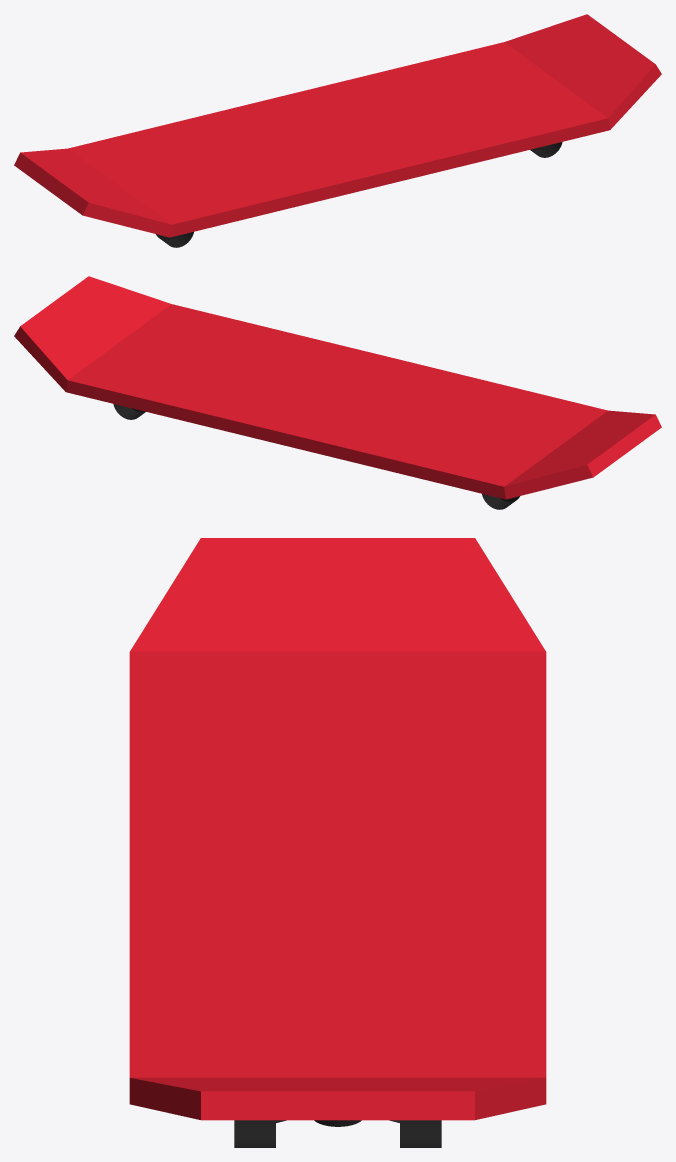
File: Skateboard.fbx
3 views of the same model, one above another, from view 1: azimuth 30°, elevation 25°; view 2: azimuth 150°, elevation 25°; view 3: azimuth 270°, elevation 25° (orthographic). The views are drawn at different scales.
Visible parts, largest first — view 1: Board, wheels; view 2: Board, wheels; view 3: Board, wheels.
Part boxes in pixels (bbox=[...]): Board: bbox=[14, 14, 661, 237]; wheels: bbox=[156, 142, 562, 247]; Board: bbox=[14, 276, 661, 499]; wheels: bbox=[113, 404, 519, 509]; Board: bbox=[129, 538, 546, 1120]; wheels: bbox=[234, 1120, 441, 1147].
Size of the model in its own units: 63.15 by 7.82 by 19.66.
